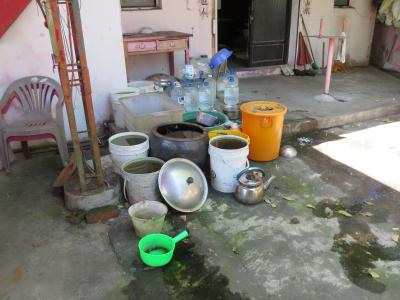bottle: (197, 79, 214, 114), (222, 75, 240, 107)
bowl: (150, 121, 209, 167), (135, 231, 178, 268), (231, 170, 270, 207), (210, 46, 235, 69)
box: (119, 90, 184, 133)
bucket: (239, 98, 289, 162), (206, 134, 254, 194), (118, 154, 164, 203), (104, 129, 151, 169), (125, 198, 168, 238)
plate: (155, 153, 210, 214), (147, 72, 176, 86)
